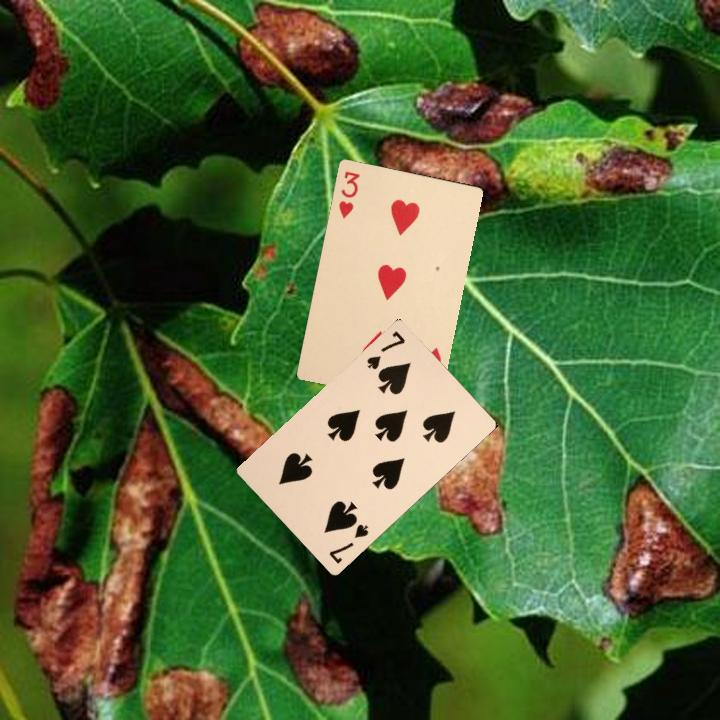3h: (335, 167, 362, 221)
7s: (325, 520, 371, 567), (363, 327, 407, 372)
